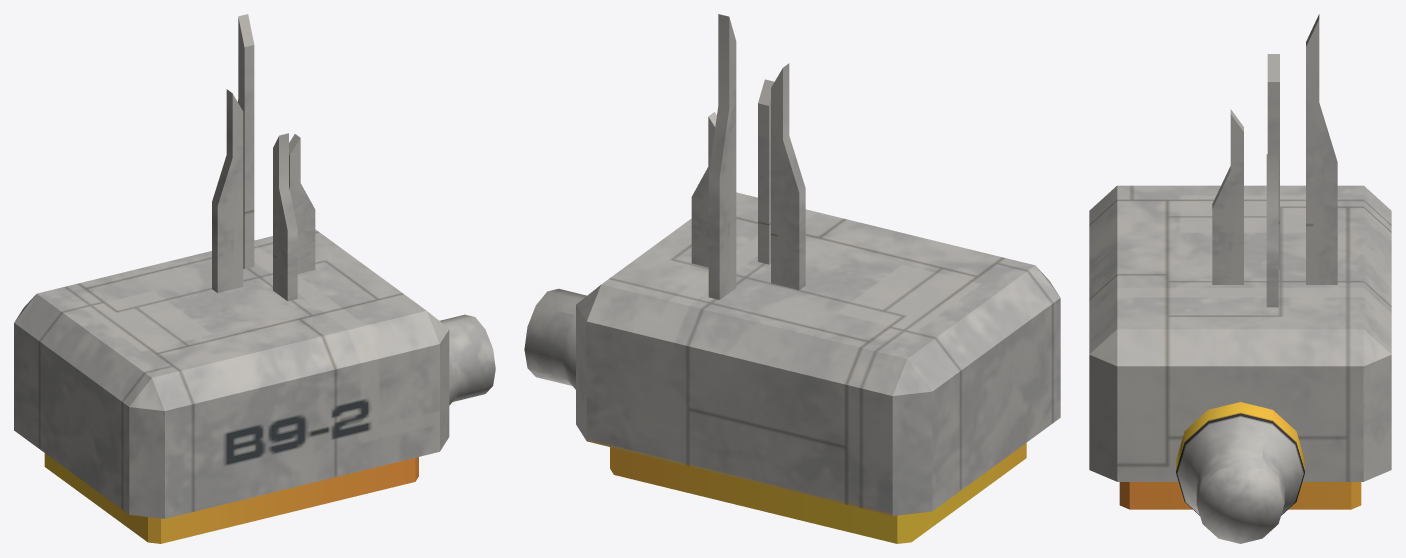
The model's file is Watch_Post.fbx.
3 views of the same model, side by side, from view 1: azimuth 30°, elevation 25°; view 2: azimuth 150°, elevation 25°; view 3: azimuth 270°, elevation 25° (orthographic). The views are drawn at different scales.
Parts seen in each view (by area): view 1: Watch_Post; view 2: Watch_Post; view 3: Watch_Post.
Boxes of the visible parts, x1,y1,x2,y2 form: Watch_Post: [14, 14, 495, 543]; Watch_Post: [524, 14, 1060, 543]; Watch_Post: [1089, 14, 1391, 543].
Size of the model in its own units: 48.69 by 48.16 by 29.52.
1 material, 1 textured.
